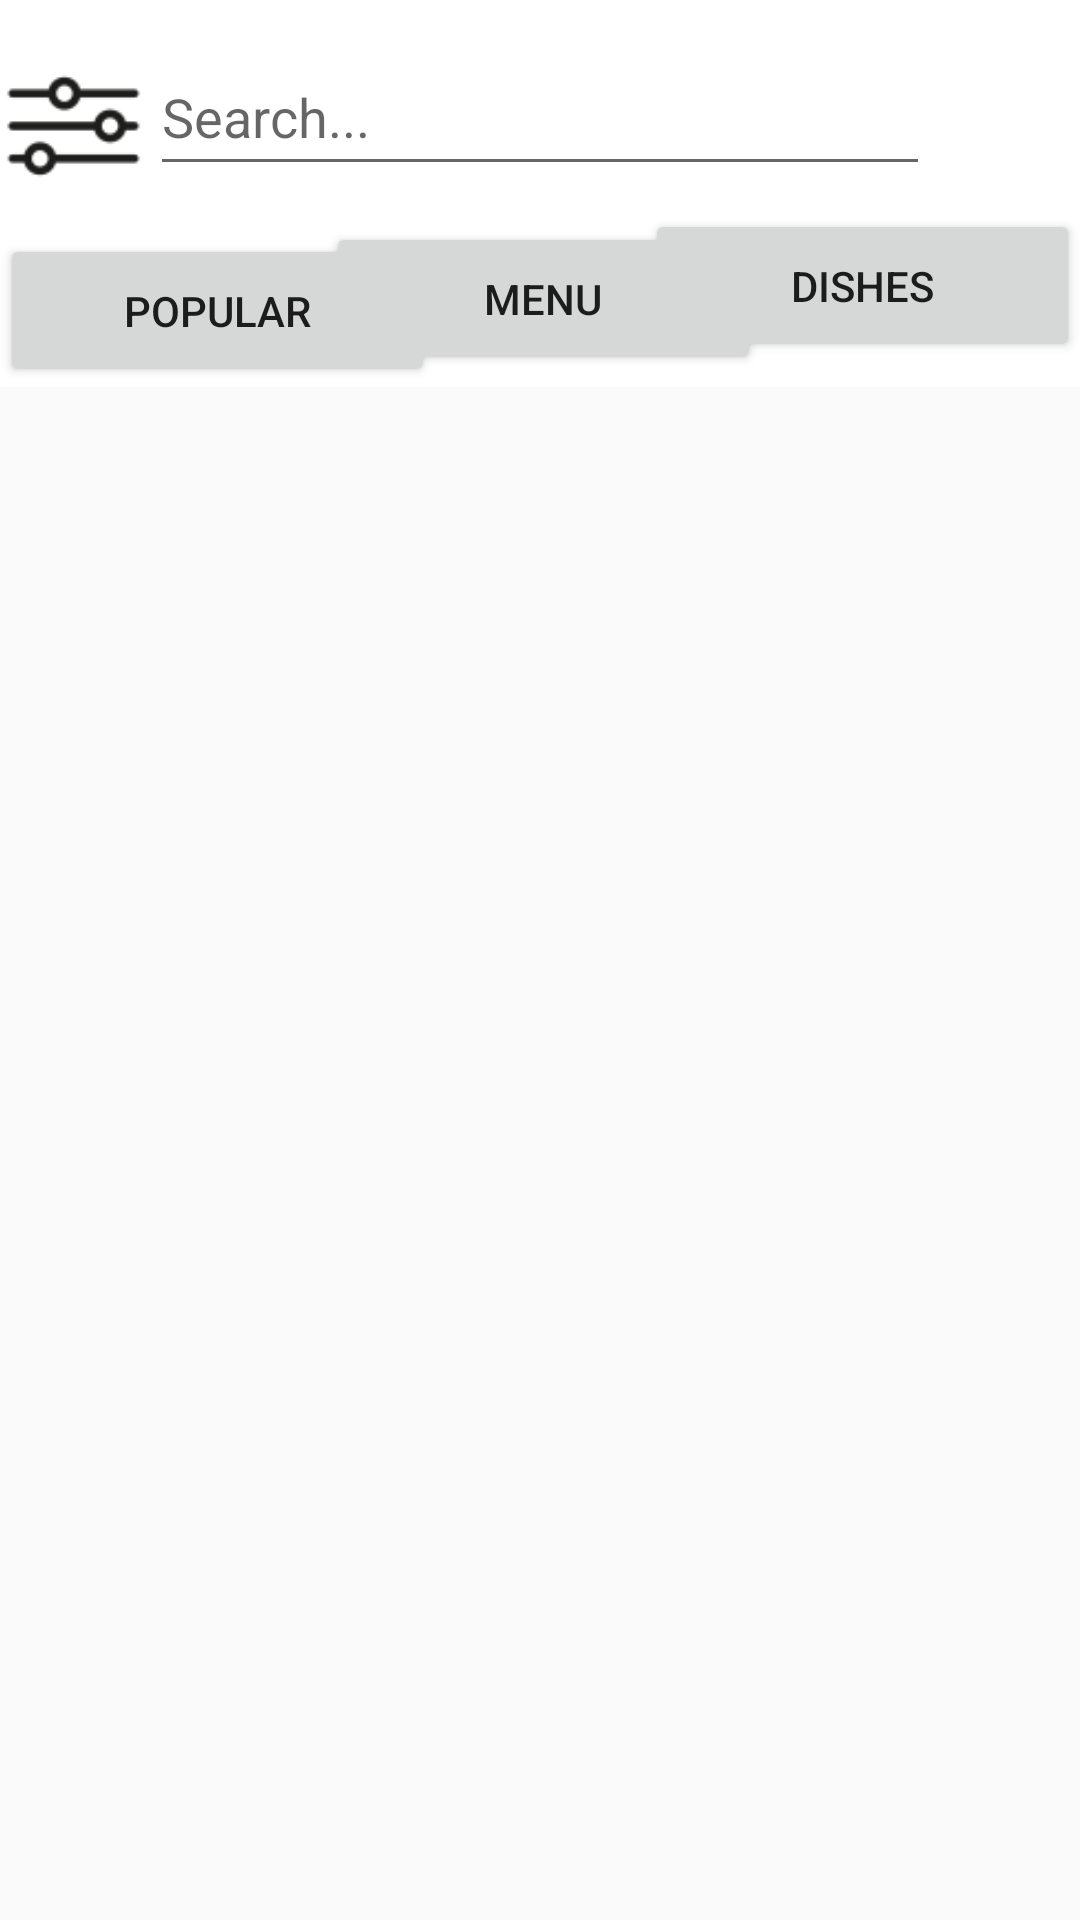

Point at icon controls on the screen. Image size 1080 × 1920, points as (x=x, y=y).
sliders: (x=73, y=126)
